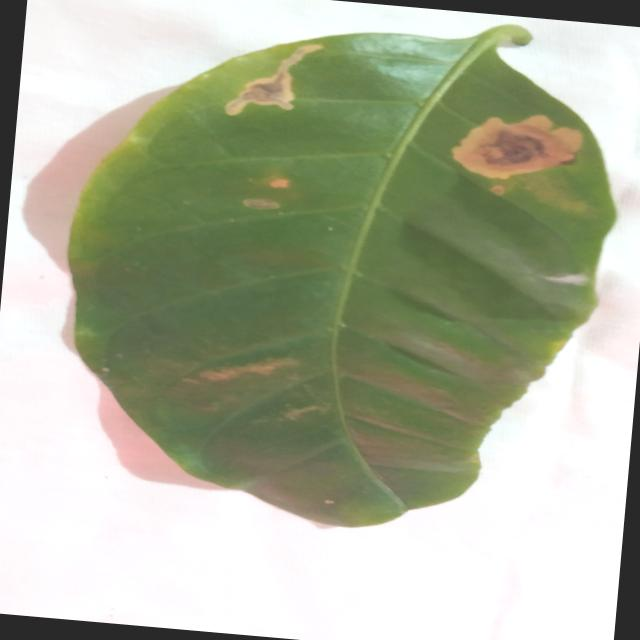PengorokDaunKopi: (451, 114, 582, 179), (224, 44, 322, 115), (199, 358, 296, 381), (243, 198, 279, 209), (268, 178, 289, 187), (490, 184, 505, 195)
